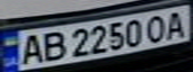0: (121, 16, 148, 47)
2: (66, 25, 93, 60), (87, 22, 112, 55)
5: (106, 19, 127, 51)
A: (15, 32, 48, 66), (160, 8, 193, 39)
B: (36, 29, 69, 63)
O: (142, 12, 172, 43)
